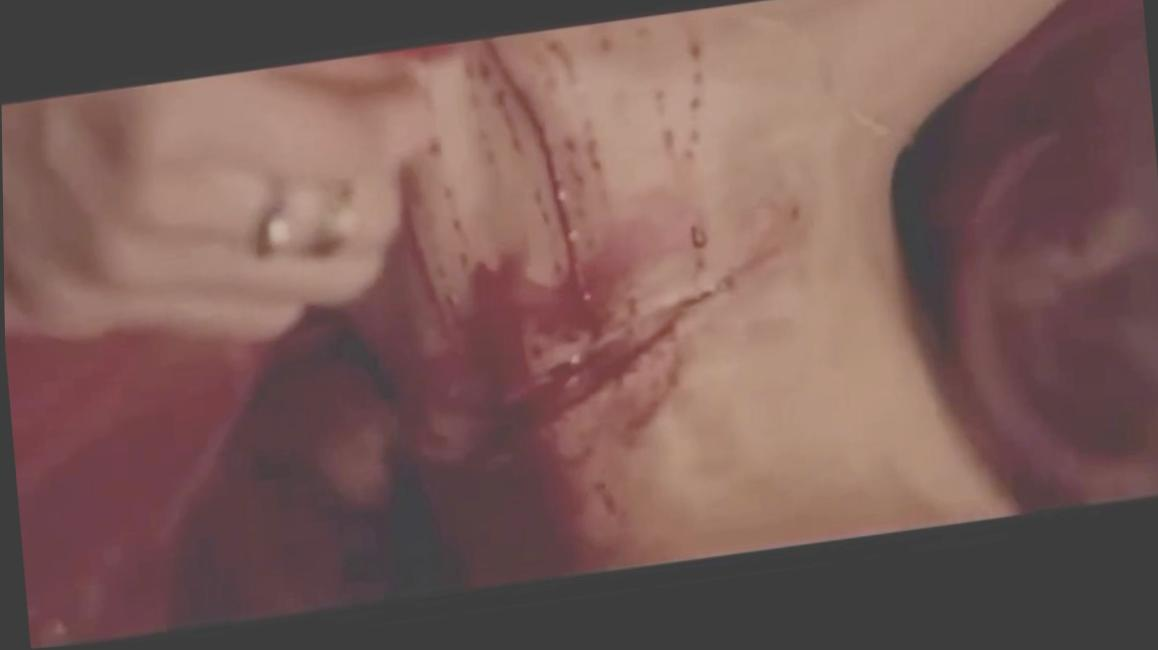Fire: (4, 41, 807, 649)
